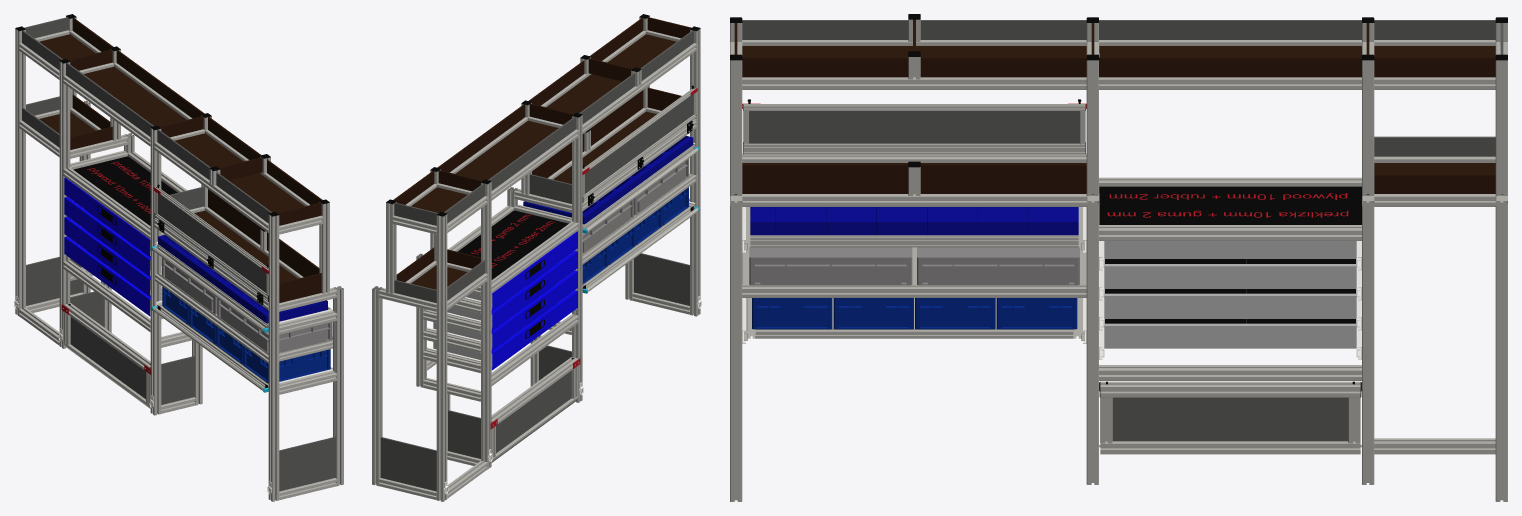
3 views of the same model, side by side, from view 1: azimuth 30°, elevation 25°; view 2: azimuth 150°, elevation 25°; view 3: azimuth 270°, elevation 25° (orthographic). The views are drawn at different scales.
Visible parts, largest first — view 1: n0, n10, n12, n46, n4, n6, n8, n42, n2, n34, n18, n44 (+4 smaller); view 2: n0, n10, n12, n8, n6, n4, n2, n34, n18, n46, n44, n38 (+4 smaller); view 3: n0, n10, n12, n4, n6, n8, n46, n44, n18, n2, n34, n36 (+9 smaller).
Part boxes in pixels (x1,y1,x2,y2): n0: (14, 14, 343, 501); n10: (61, 303, 151, 408); n12: (153, 187, 268, 301); n46: (217, 298, 332, 353); n4: (64, 197, 161, 276); n6: (64, 216, 161, 296); n8: (64, 236, 150, 316); n42: (243, 346, 330, 383); n2: (64, 177, 150, 256); n34: (151, 303, 332, 392); n18: (151, 244, 331, 332); n44: (162, 257, 217, 314); n0: (372, 14, 701, 501); n10: (490, 357, 580, 462); n12: (582, 88, 697, 202); n8: (433, 290, 577, 370); n6: (433, 270, 577, 350); n4: (447, 251, 577, 330); n2: (466, 231, 577, 310); n34: (582, 204, 699, 293); n18: (582, 145, 699, 233); n46: (634, 158, 689, 215); n44: (582, 199, 633, 253); n38: (608, 227, 634, 265); n0: (730, 14, 1507, 501); n10: (1099, 381, 1361, 454); n12: (742, 103, 1086, 154); n4: (1100, 259, 1360, 297); n6: (1100, 289, 1360, 327); n8: (1100, 319, 1360, 357); n46: (749, 247, 912, 285); n44: (917, 247, 1079, 285); n18: (744, 207, 1084, 250); n2: (1100, 241, 1360, 267); n34: (744, 298, 1084, 340); n36: (996, 298, 1077, 329).
Size of the model in its own units: 483 by 1767 by 2861.
